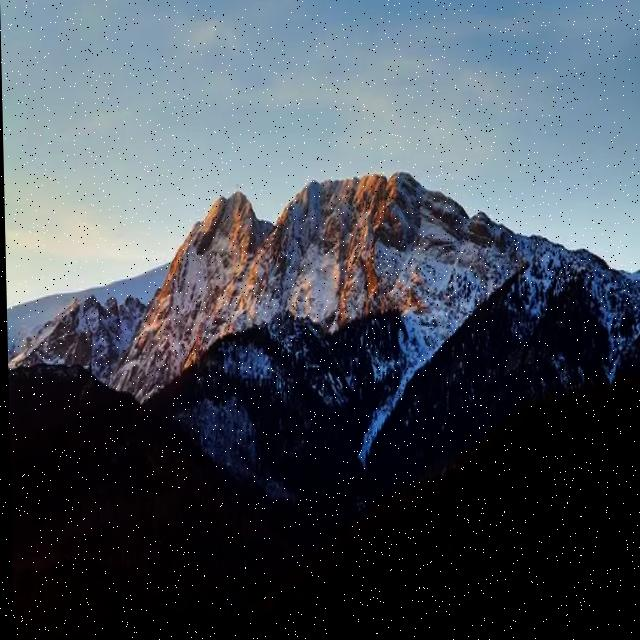Giewont: (161, 99, 309, 287)
Maly giewont: (25, 224, 157, 371)
